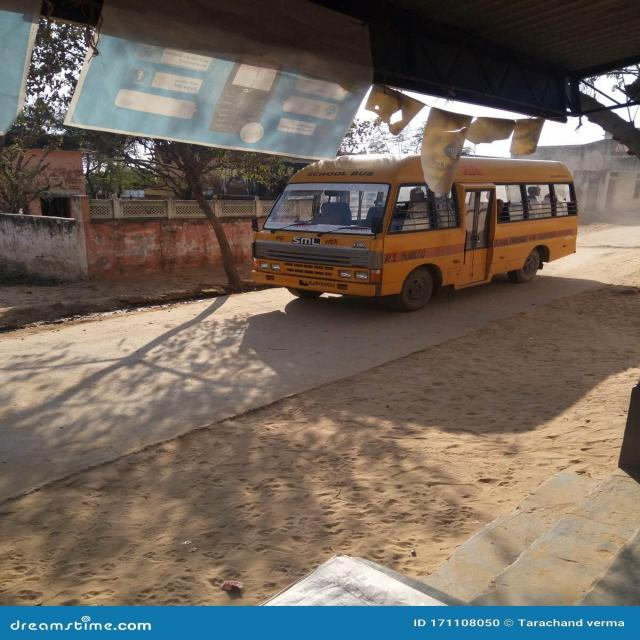bus: (252, 155, 577, 311)
